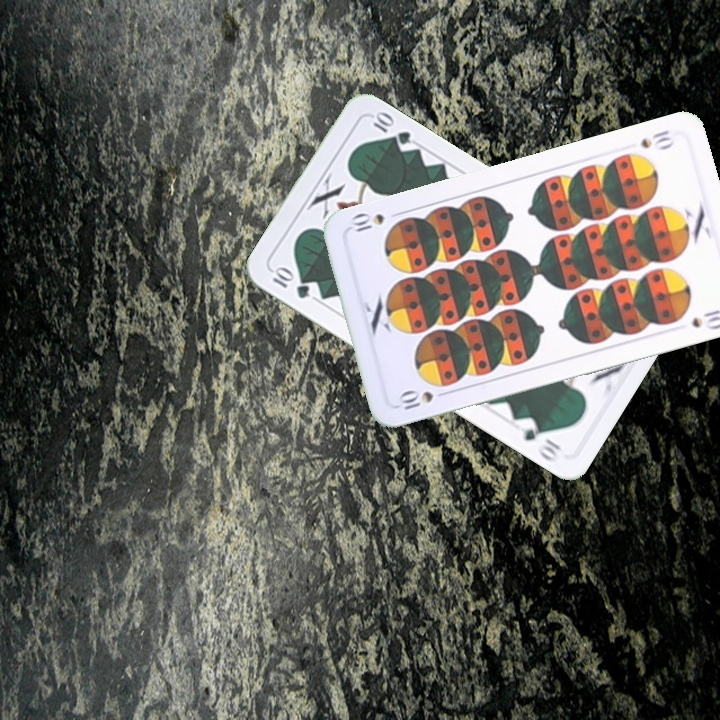G10: (267, 262, 313, 302)
S10: (394, 386, 436, 413), (636, 126, 677, 152)
